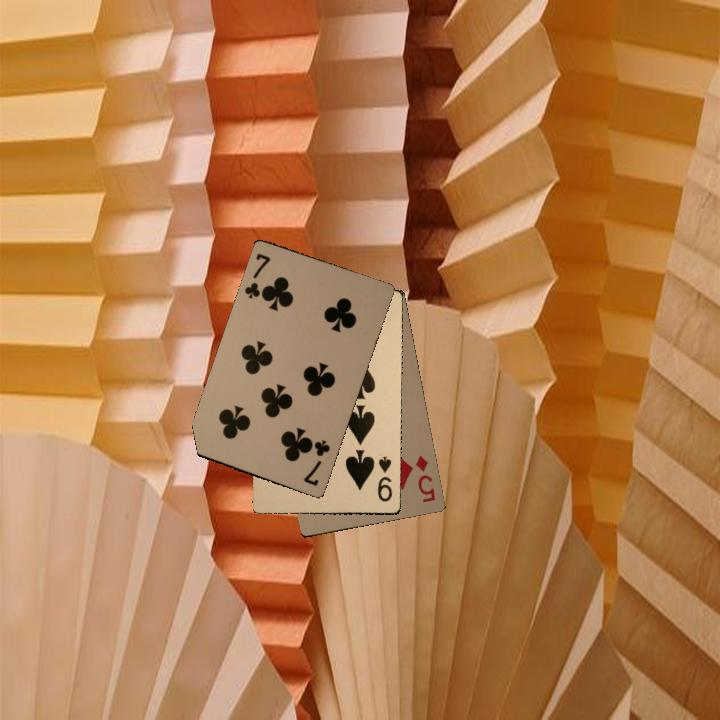5d: (411, 451, 438, 505)
7c: (299, 436, 333, 489), (240, 249, 273, 301)
9s: (373, 452, 394, 504)
